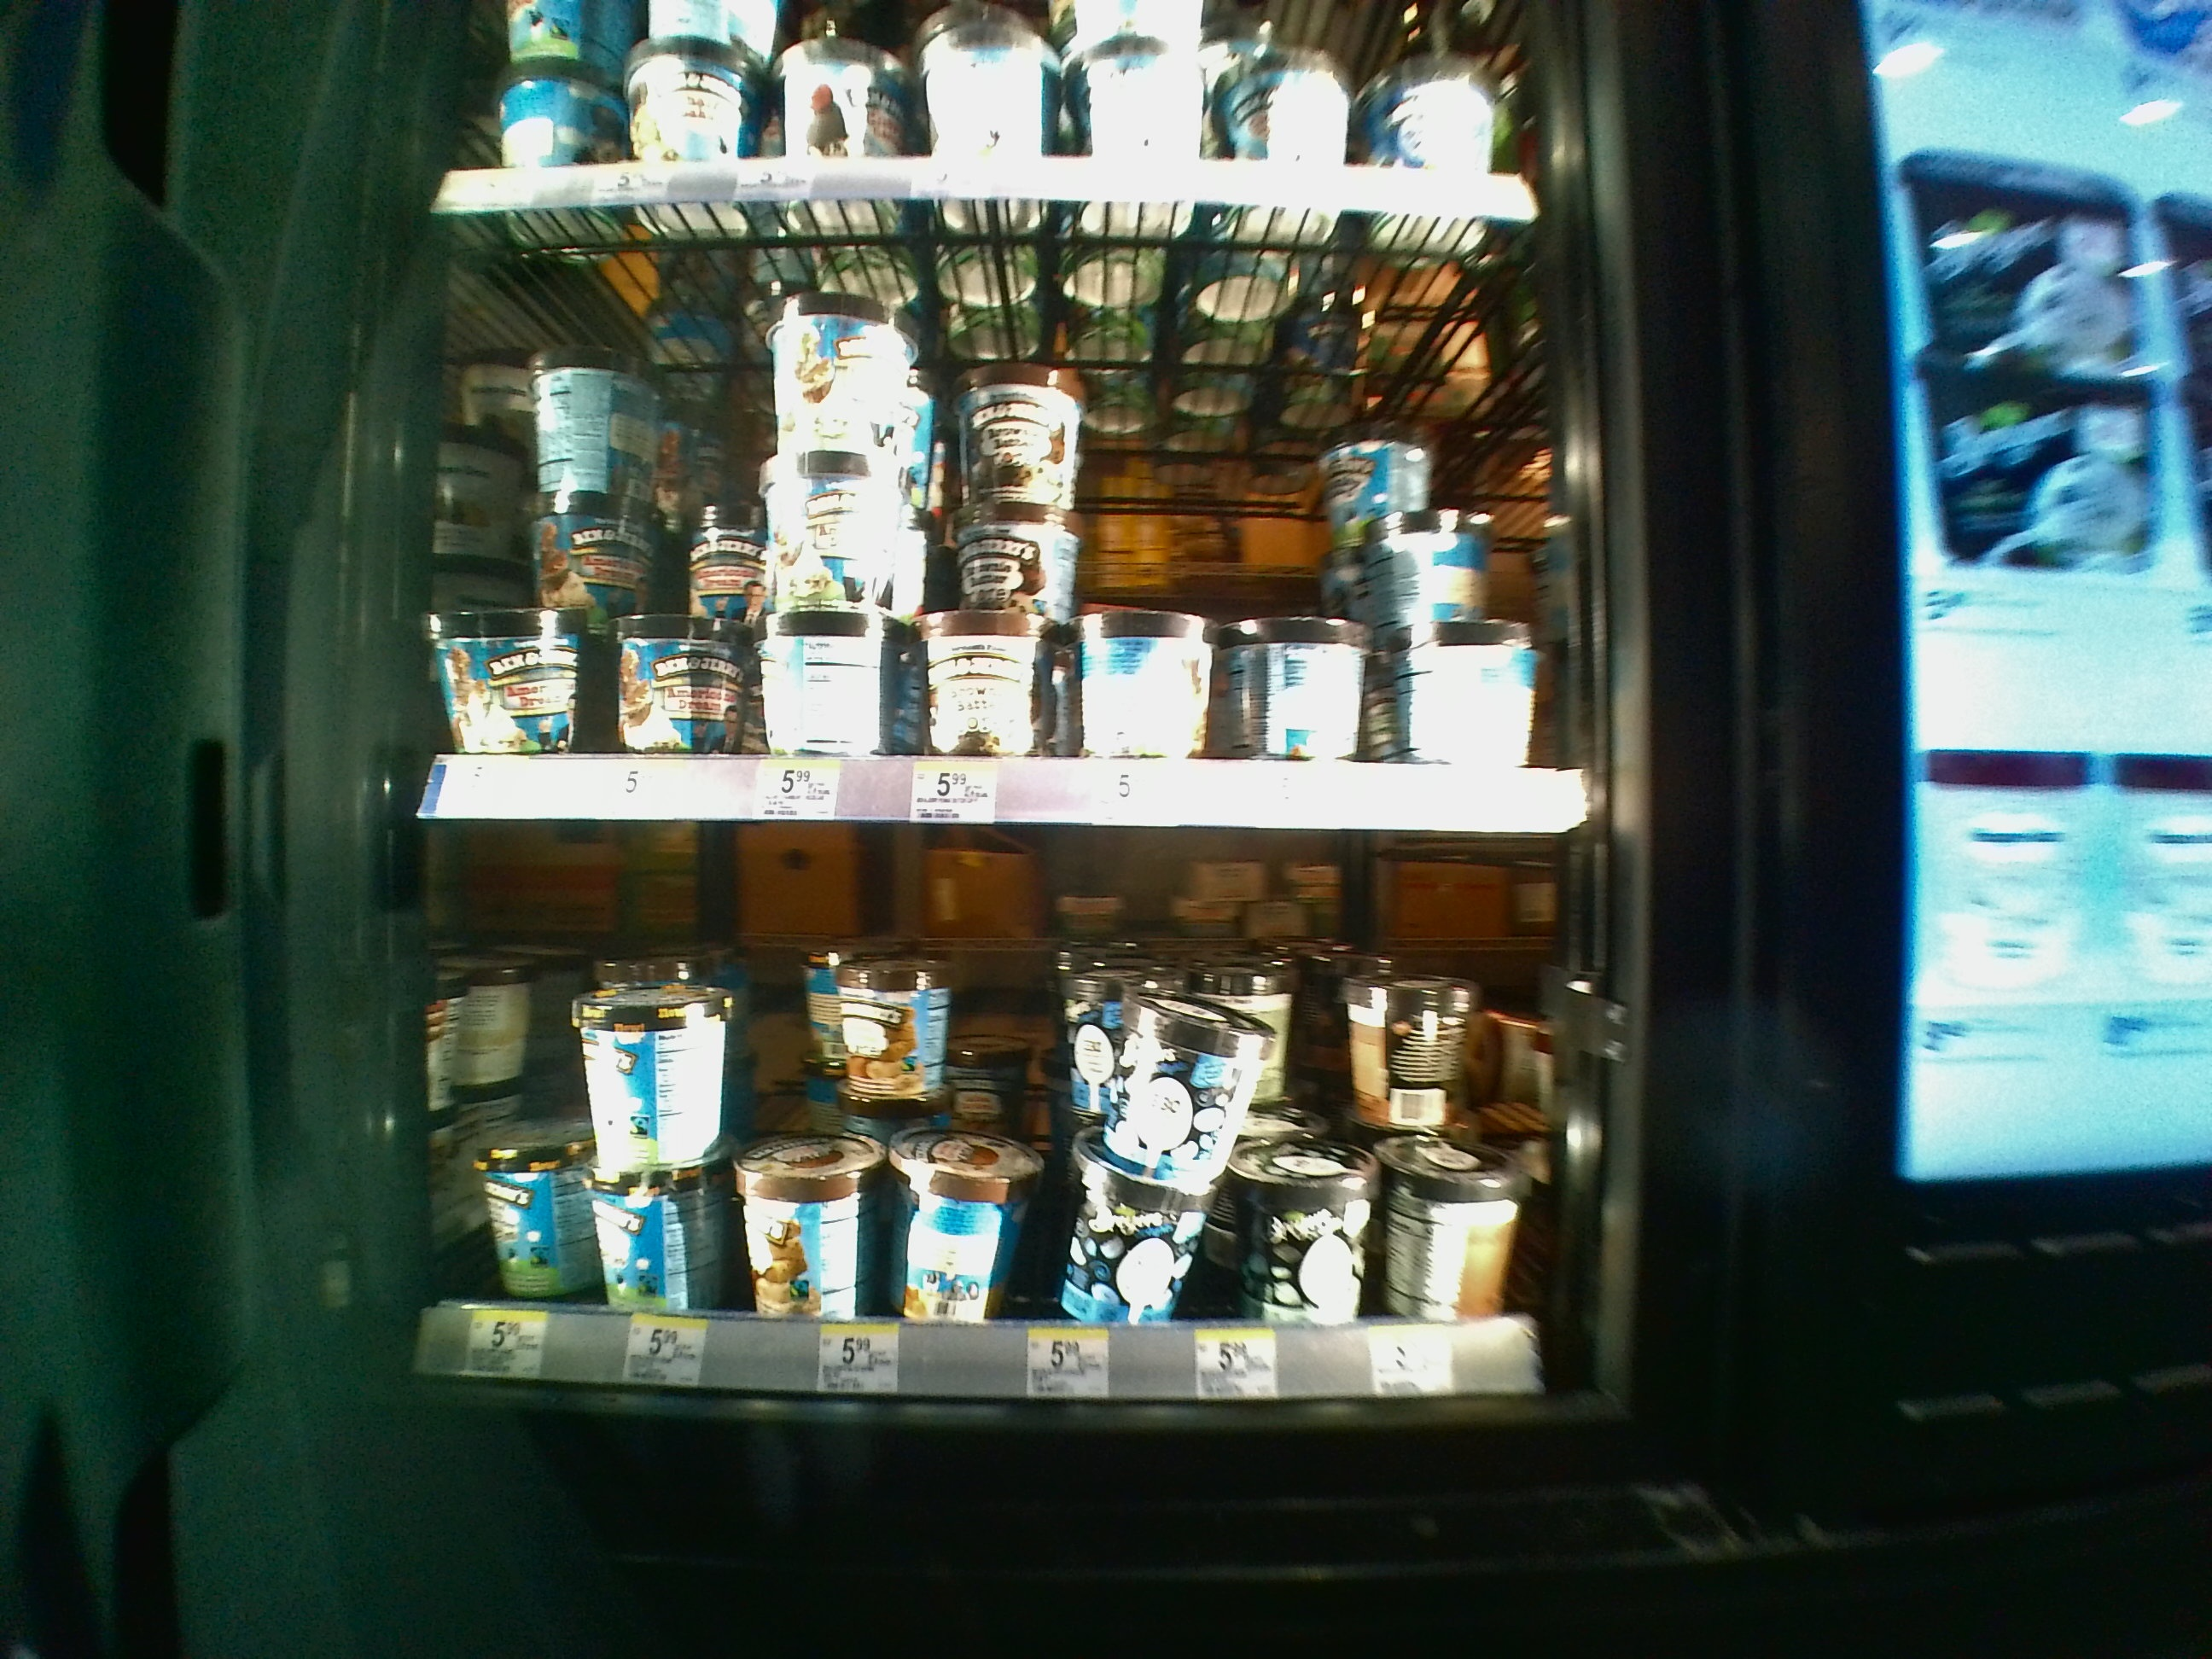shelf: (420, 211, 1594, 817), (420, 828, 1595, 1417)
